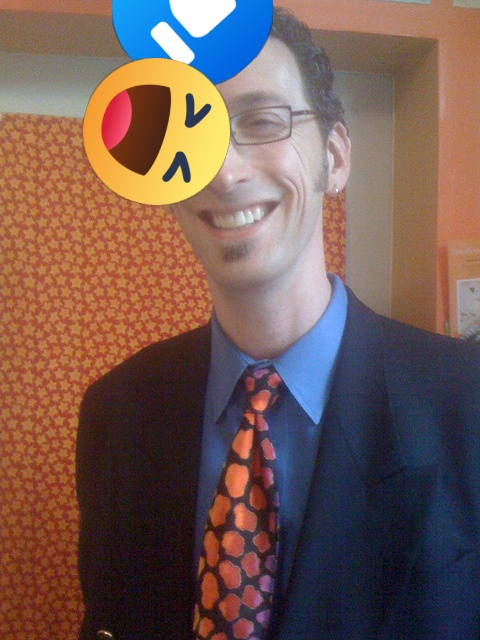haha: (83, 58, 230, 205)
like: (112, 0, 273, 87)
